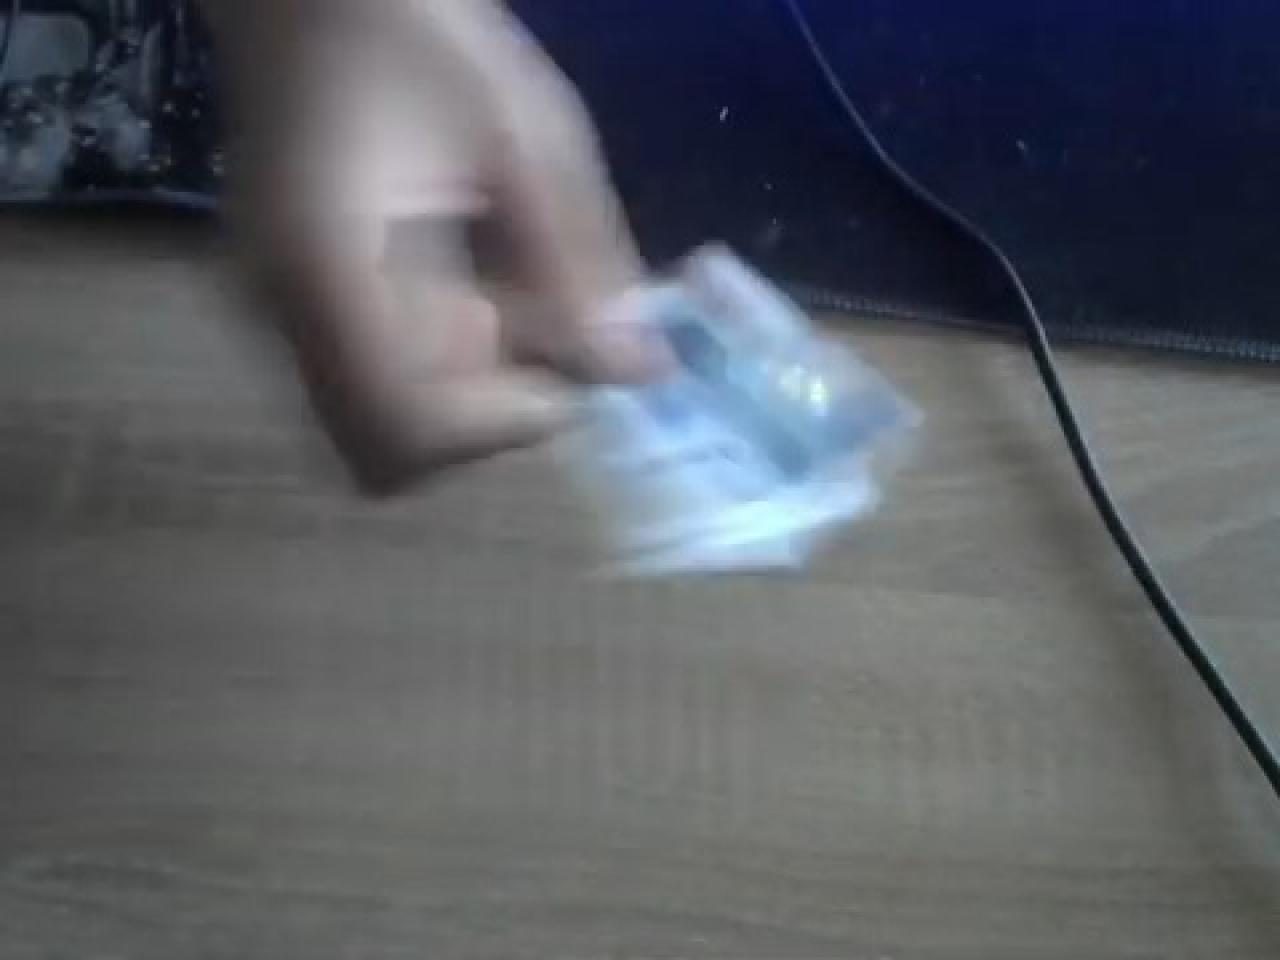20leva: (491, 243, 917, 576)
